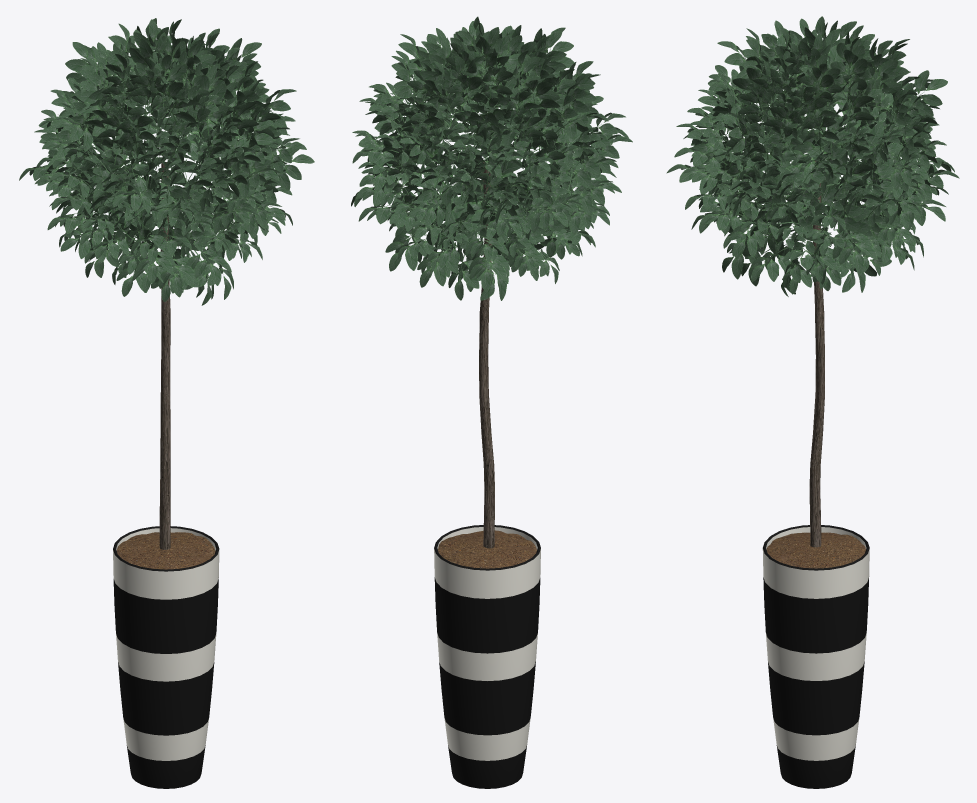
File: Potted_Plant_B.fbx
The picture shows the model from 3 angles, left to right: view 1: azimuth 30°, elevation 25°; view 2: azimuth 150°, elevation 25°; view 3: azimuth 270°, elevation 25°; orthographic projection.
Visible parts, largest first — view 1: Potted_Plant_B; view 2: Potted_Plant_B; view 3: Potted_Plant_B.
Part boxes in pixels (box(x1,y1,x2,y2)): Potted_Plant_B: box(19, 18, 314, 788); Potted_Plant_B: box(351, 16, 632, 788); Potted_Plant_B: box(666, 16, 959, 788).
Size of the model in its own units: 0.8239 by 0.8441 by 2.33.
